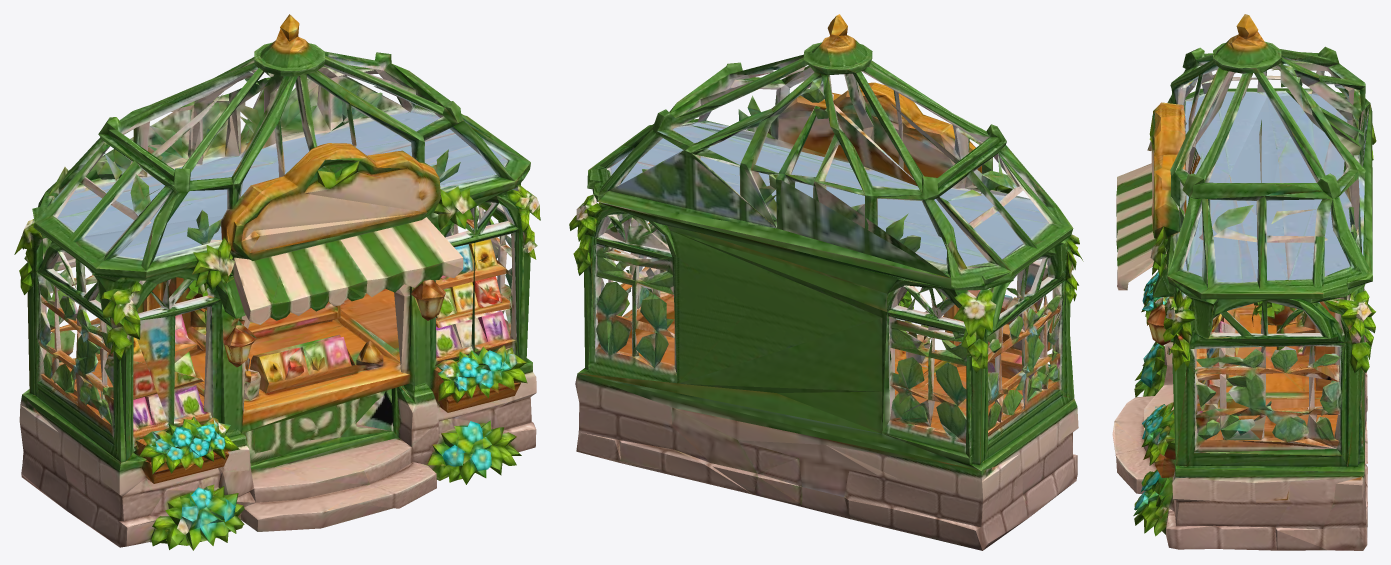
The model's file is seed_shop.glb.
The picture shows the model from 3 angles, left to right: view 1: azimuth 30°, elevation 25°; view 2: azimuth 150°, elevation 25°; view 3: azimuth 270°, elevation 25°; orthographic projection. The views are drawn at different scales.
Parts seen in each view (by area): view 1: output_unwrapped; view 2: output_unwrapped; view 3: output_unwrapped.
Part boxes in pixels (x1,y1,x2,y2): output_unwrapped: (14, 14, 540, 550); output_unwrapped: (569, 14, 1083, 550); output_unwrapped: (1112, 14, 1376, 550).
Bounding box in the file's own units: 1.9 × 1.91 × 1.03.
Materials: 1 (1 with a texture image).
